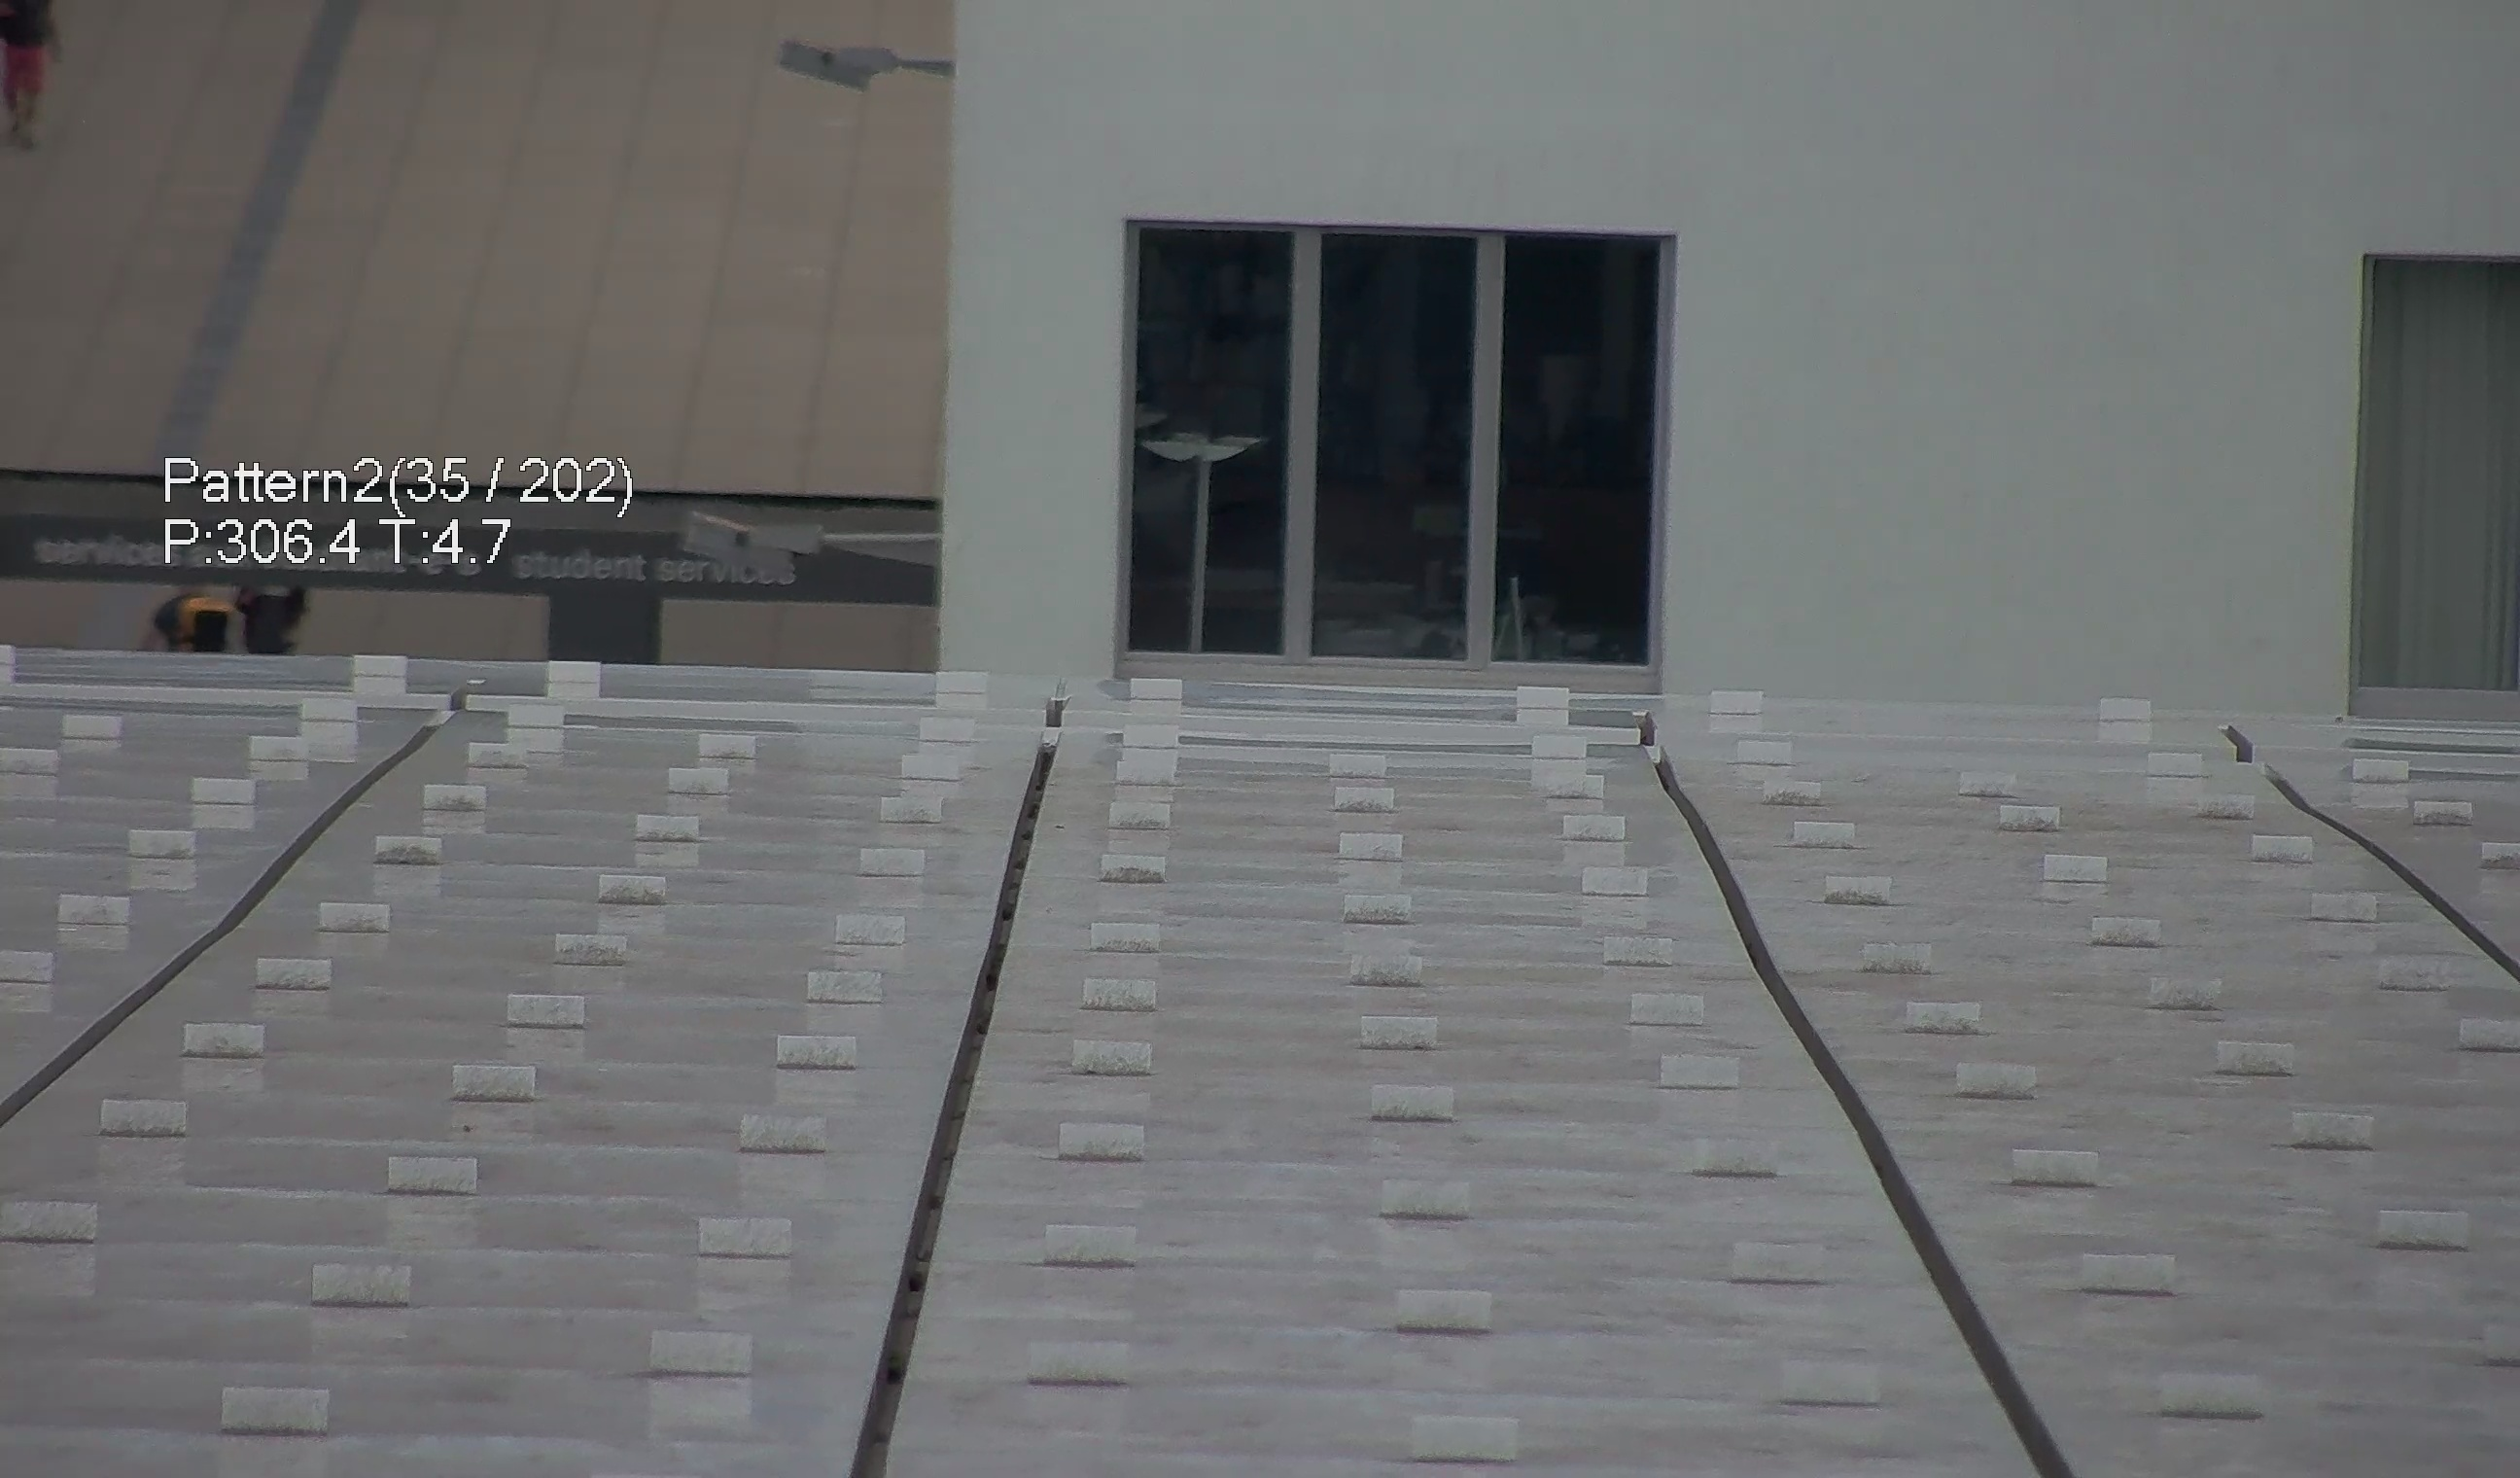Other: (770, 26, 932, 99)
